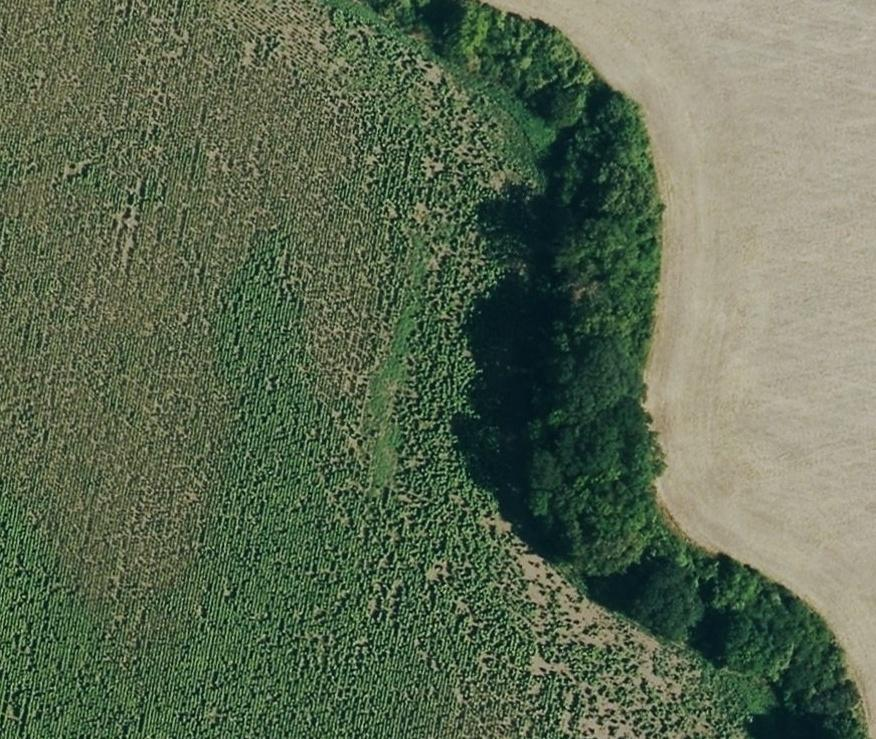field: (0, 2, 843, 737), (502, 3, 876, 735)
forest: (374, 2, 864, 737)
